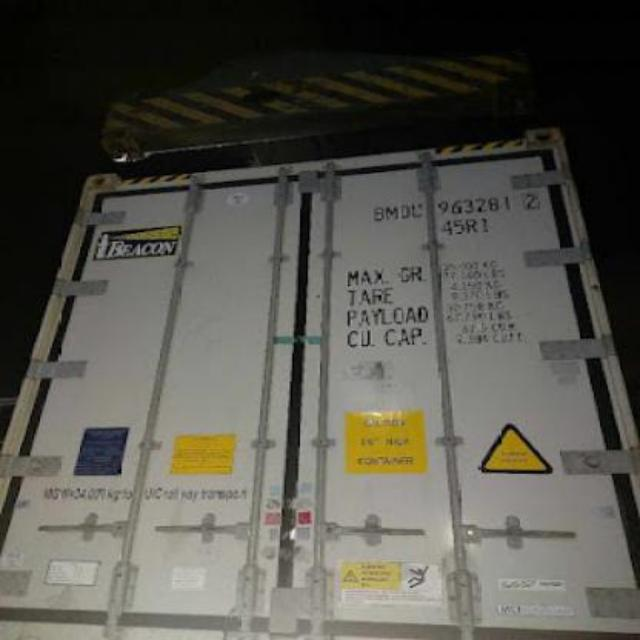1: (500, 189, 518, 215)
2: (520, 186, 544, 216), (474, 186, 486, 218)
3: (462, 194, 472, 216)
6: (448, 194, 462, 216)
8: (488, 184, 500, 216)
9: (436, 196, 448, 218)
B: (370, 198, 382, 224)
M: (382, 201, 398, 227)
O: (398, 194, 410, 223)
U: (411, 196, 424, 222)
